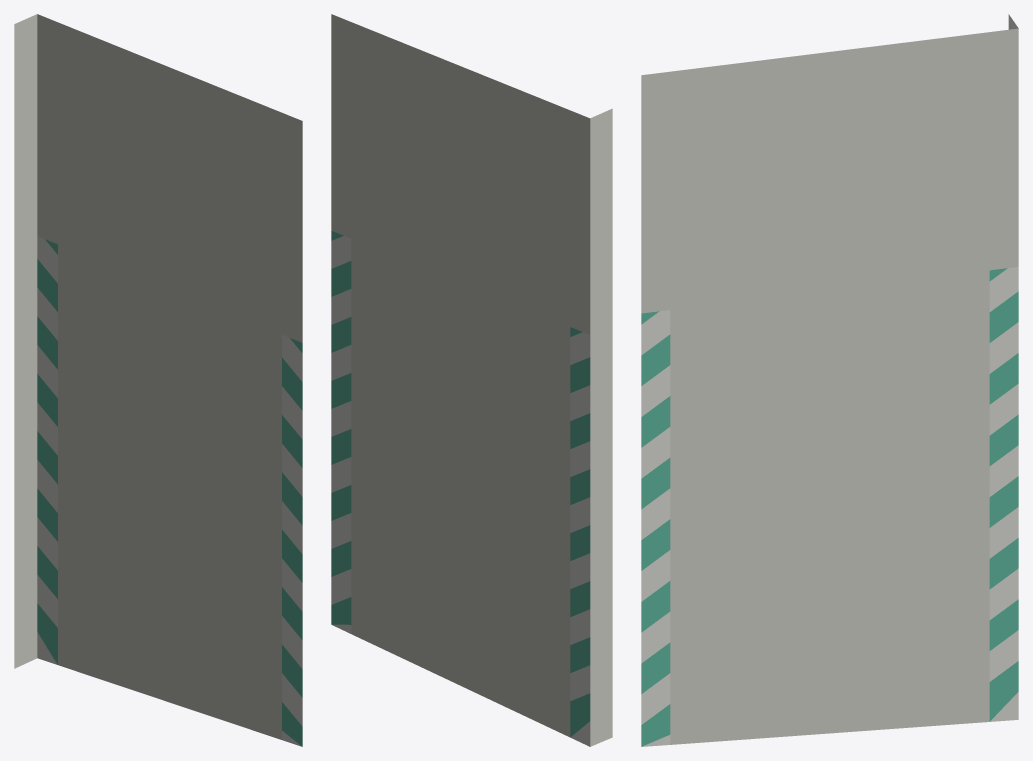
Rendered from wall-jr-centre-pier-2025-04-09.glb.
The picture shows the model from 3 angles, left to right: view 1: azimuth 30°, elevation 25°; view 2: azimuth 210°, elevation 25°; view 3: azimuth 270°, elevation 25°; orthographic projection. The views are drawn at different scales.
Parts seen in each view (by area): view 1: visible_centre_pier_cladding_ONLY; view 2: visible_centre_pier_cladding_ONLY; view 3: visible_centre_pier_cladding_ONLY.
Boxes of the visible parts, x1,y1,x2,y2 form: visible_centre_pier_cladding_ONLY: (14,14,302,746); visible_centre_pier_cladding_ONLY: (331,14,612,746); visible_centre_pier_cladding_ONLY: (641,14,1018,746).
Bounding box in the file's own units: 0.8106 × 4.27 × 2.11.
